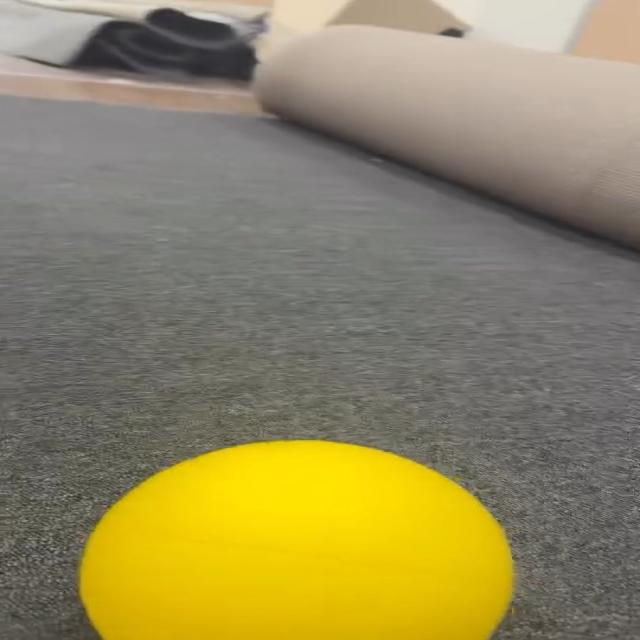Fuels: (81, 441, 509, 637)
